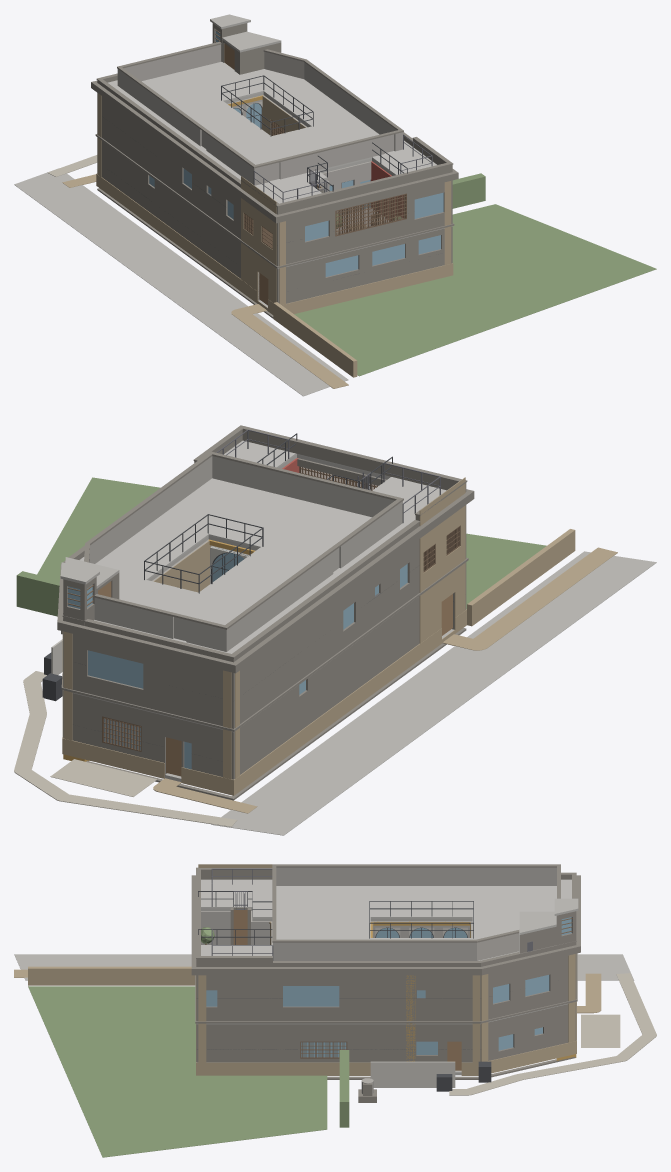
File: taif_house_V8.3.glb
3 views of the same model, one above another, from view 1: azimuth 30°, elevation 25°; view 2: azimuth 150°, elevation 25°; view 3: azimuth 270°, elevation 25° (orthographic). The views are drawn at different scales.
Parts seen in each view (by area): view 1: chr_site_foliage_garden, roof_finish_floor, chr_site_concrete_driveway, roof_attic_wall, gf_outer, ff_outer, chr_base_stone_plinth, roof_cornice, chr_base_stone_feature_wall_00, roof_attic_coping, chr_base_timber_court_screen, chr_site_stone_path_guest (+18 smaller); view 2: roof_finish_floor, chr_site_concrete_driveway, ff_outer, roof_attic_wall, gf_outer, chr_site_foliage_garden, chr_base_stone_plinth, roof_cornice, chr_base_stone_feature_wall_00, chr_site_stone_light_path_workers, roof_attic_coping, chr_site_stone_path_guest (+20 smaller); view 3: chr_site_foliage_garden, roof_finish_floor, ff_outer, roof_attic_wall, gf_outer, roof_cornice, chr_base_stone_plinth, chr_site_concrete_driveway, chr_site_stone_garden_wall, chr_base_stone_quoins, chr_site_stone_light_path_workers, roof_attic_coping (+26 smaller).
Part boxes in pixels (box(x1,y1,x2,y2)): chr_site_foliage_garden: box(294, 204, 656, 376); roof_finish_floor: box(108, 62, 436, 203); chr_site_concrete_driveway: box(14, 168, 348, 396); roof_attic_wall: box(117, 44, 403, 185); gf_outer: box(97, 137, 452, 303); ff_outer: box(97, 93, 452, 266); chr_base_stone_plinth: box(96, 173, 453, 314); roof_cornice: box(91, 80, 458, 223); chr_base_stone_feature_wall_00: box(241, 176, 276, 310); roof_attic_coping: box(117, 41, 403, 168); chr_base_timber_court_screen: box(335, 193, 406, 236); chr_site_stone_path_guest: box(231, 304, 348, 388); roof_finish_floor: box(79, 440, 446, 653); chr_site_concrete_driveway: box(211, 551, 656, 835); ff_outer: box(63, 458, 466, 728); roof_attic_wall: box(89, 456, 402, 651); gf_outer: box(63, 562, 466, 779); chr_site_foliage_garden: box(37, 477, 546, 608); chr_base_stone_plinth: box(62, 609, 466, 795); roof_cornice: box(57, 489, 474, 673); chr_base_stone_feature_wall_00: box(419, 477, 465, 643); chr_site_stone_light_path_workers: box(14, 671, 237, 826); roof_attic_coping: box(84, 451, 403, 629); chr_site_stone_path_guest: box(442, 547, 617, 650); chr_site_foliage_garden: box(28, 986, 327, 1157); roof_finish_floor: box(201, 879, 571, 960); ff_outer: box(196, 954, 576, 1021); roof_attic_wall: box(273, 867, 556, 960); gf_outer: box(196, 1002, 576, 1062); roof_cornice: box(191, 875, 580, 975); chr_base_stone_plinth: box(196, 1002, 576, 1075); chr_site_concrete_driveway: box(14, 954, 634, 980); chr_site_stone_garden_wall: box(28, 966, 195, 985); chr_base_stone_quoins: box(196, 954, 576, 1062); chr_site_stone_light_path_workers: box(449, 973, 656, 1095); roof_attic_coping: box(272, 864, 560, 942).
Bounding box in the file's own units: 30.69 × 10.6 × 41.05.
